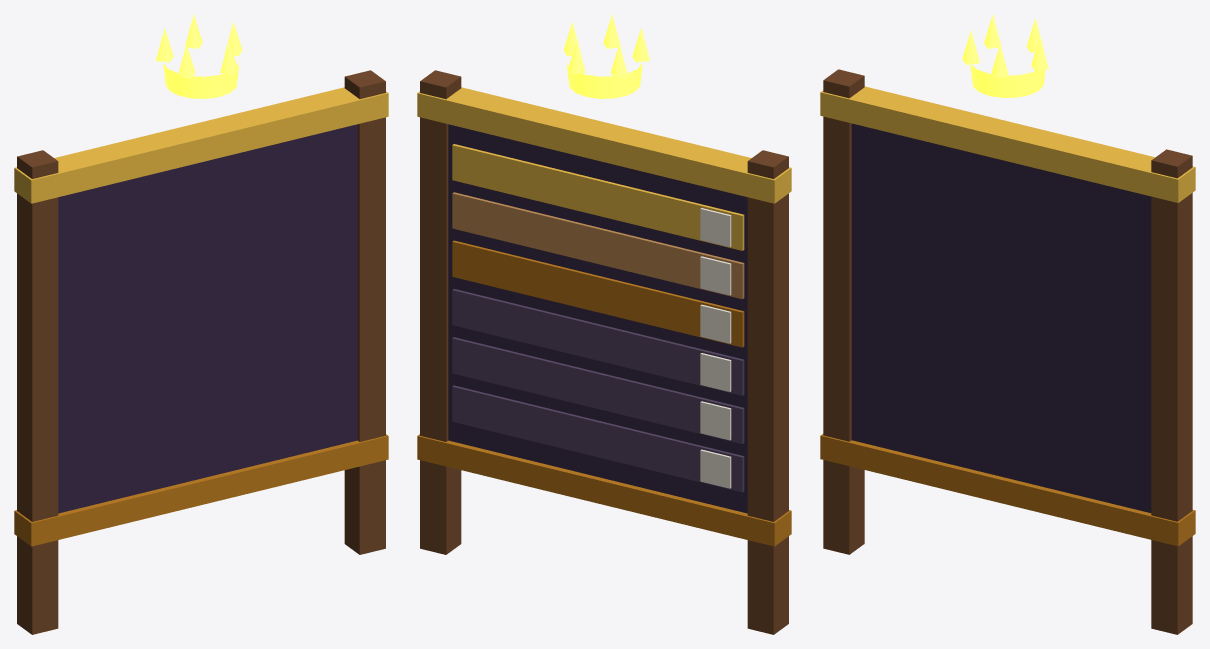
File: LeaderboardStand.glb
3 views of the same model, side by side, from view 1: azimuth 30°, elevation 25°; view 2: azimuth 150°, elevation 25°; view 3: azimuth 330°, elevation 25° (orthographic).
Parts seen in each view (by area): view 1: Body, HoverCrown; view 2: Body, HoverCrown; view 3: Body, HoverCrown.
Boxes of the visible parts, box(x1,y1,x2,y2) form: Body: box(14, 70, 388, 634); HoverCrown: box(156, 14, 242, 98); Body: box(417, 70, 791, 634); HoverCrown: box(563, 14, 649, 98); Body: box(820, 69, 1195, 634); HoverCrown: box(962, 14, 1048, 97).
Size of the model in its own units: 4.8 by 7.15 by 1.06.
2 materials, 1 textured.
